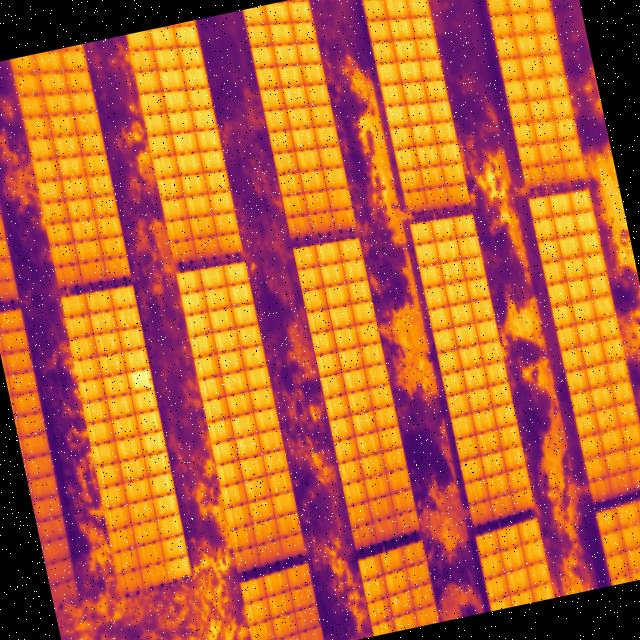Hotspot: (131, 369, 150, 388)
